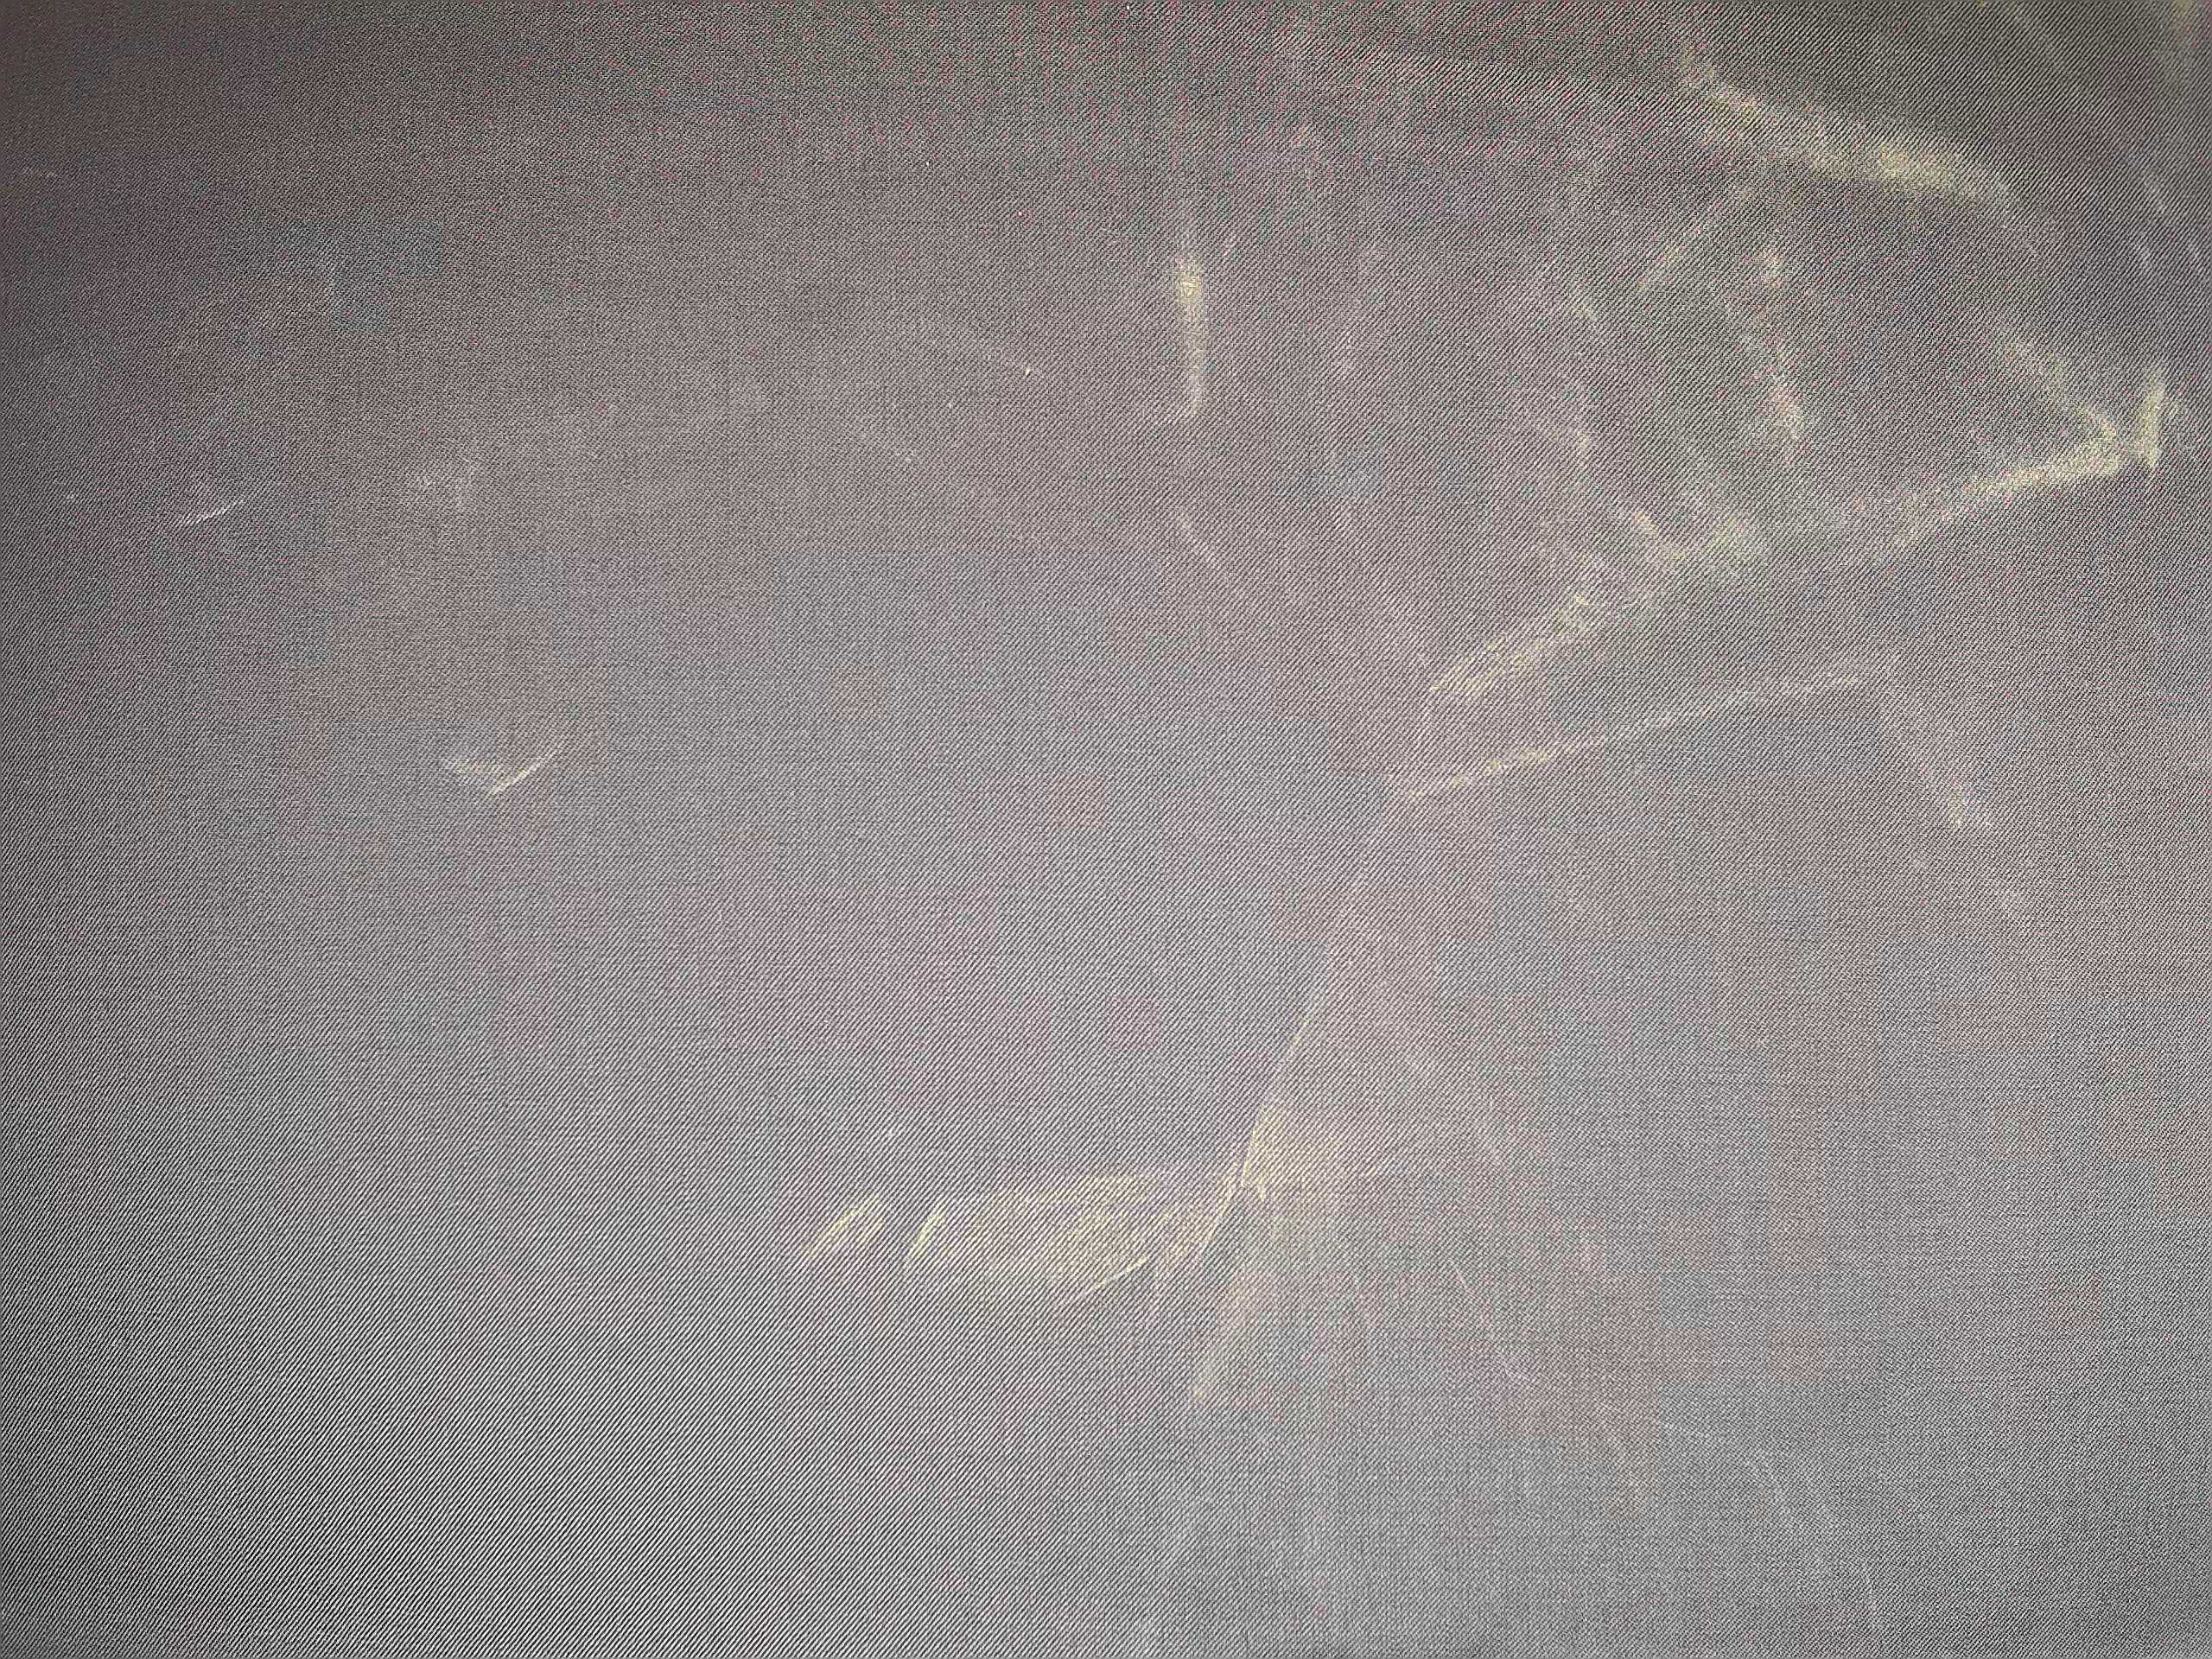stain: (1128, 7, 2194, 779), (125, 252, 1057, 563), (784, 1052, 1539, 1384), (417, 702, 583, 817)
